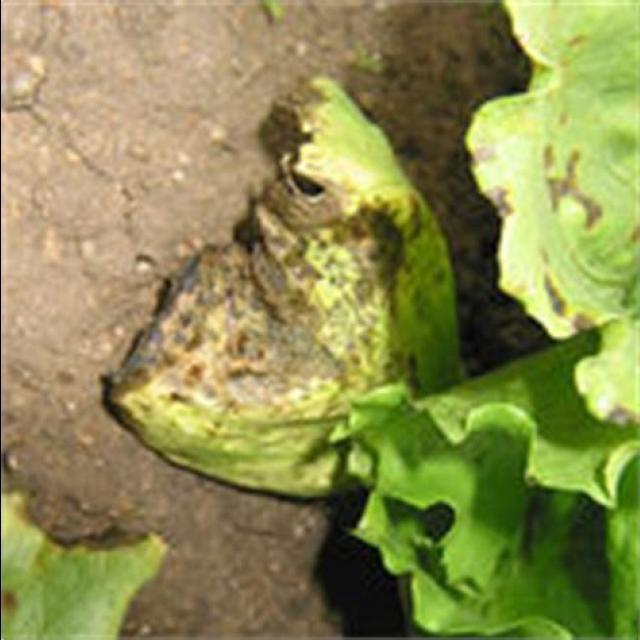Bacterial: (240, 190, 402, 355), (157, 315, 340, 435)
